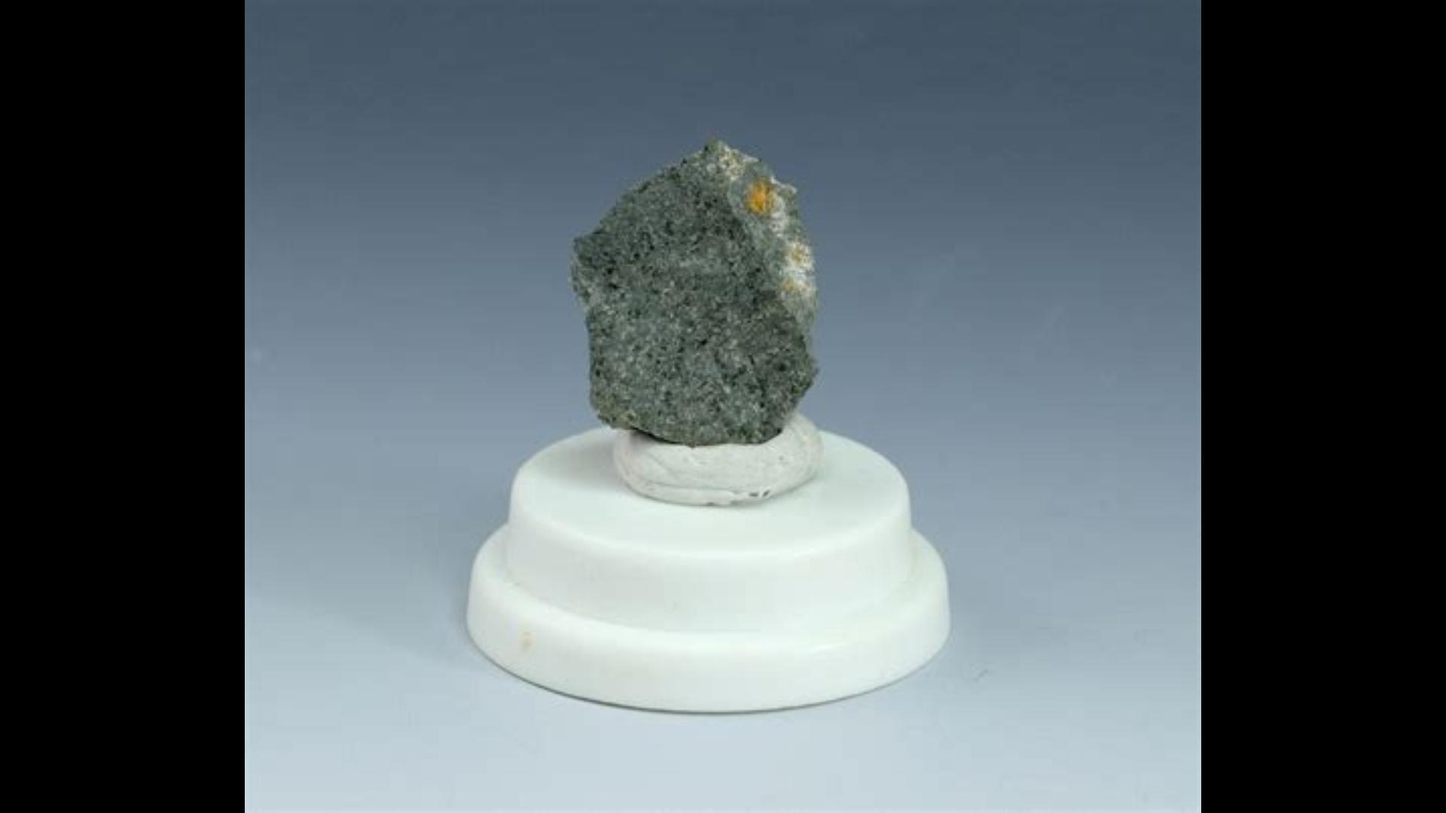rock: (572, 139, 814, 444)
